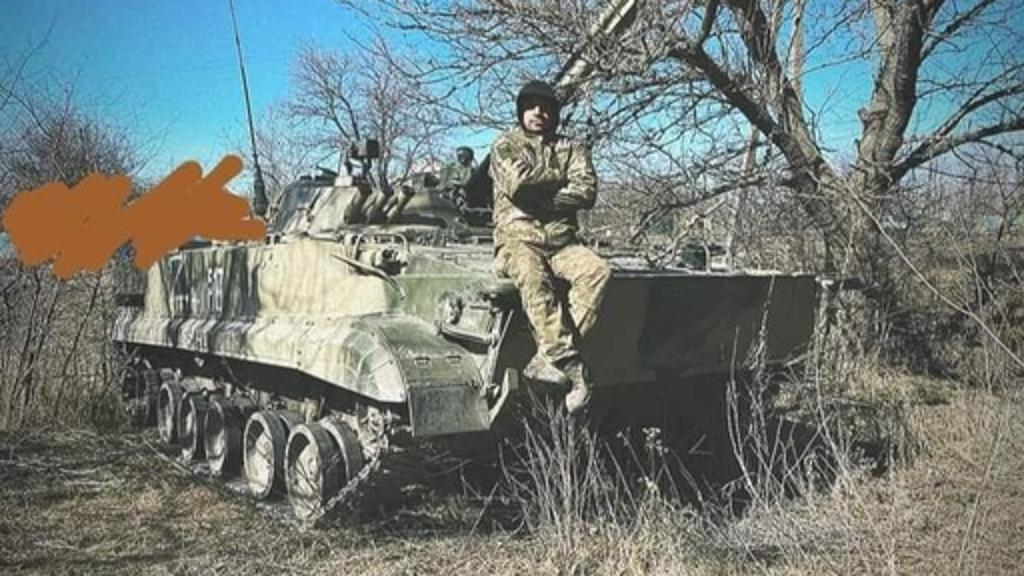APC-IFV: (106, 0, 828, 530)
